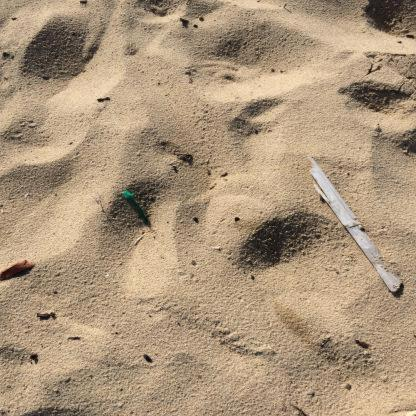Other litter: (122, 189, 147, 222)
